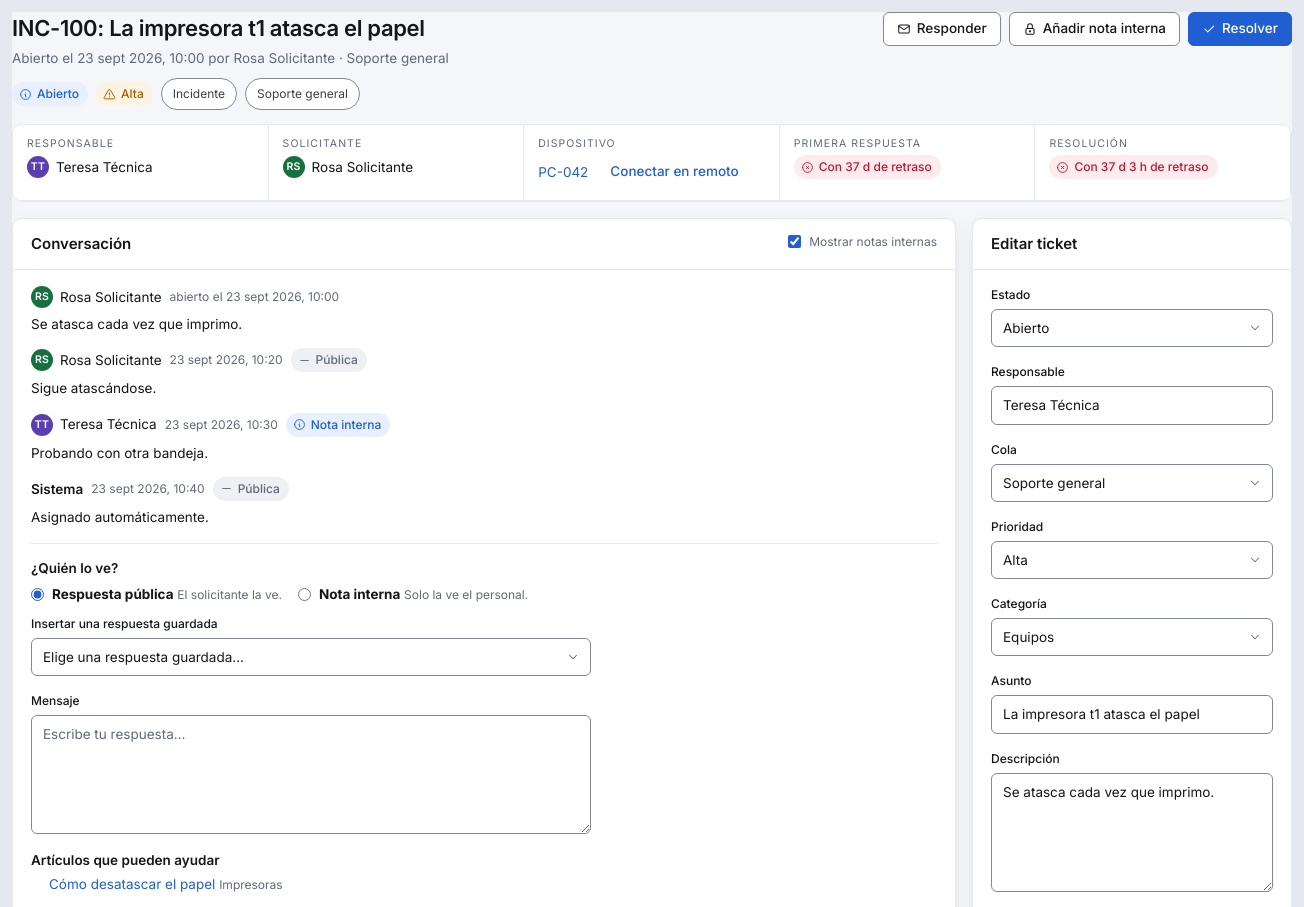
Test: a ticket's page in Spanish › fills the saved-reply box from the Spanish list
The image size is (1304, 907).
Select "Reiniciar primero" in the dropdown labelled "Insertar una respuesta guardada": (311, 657) [31,638,591,676]
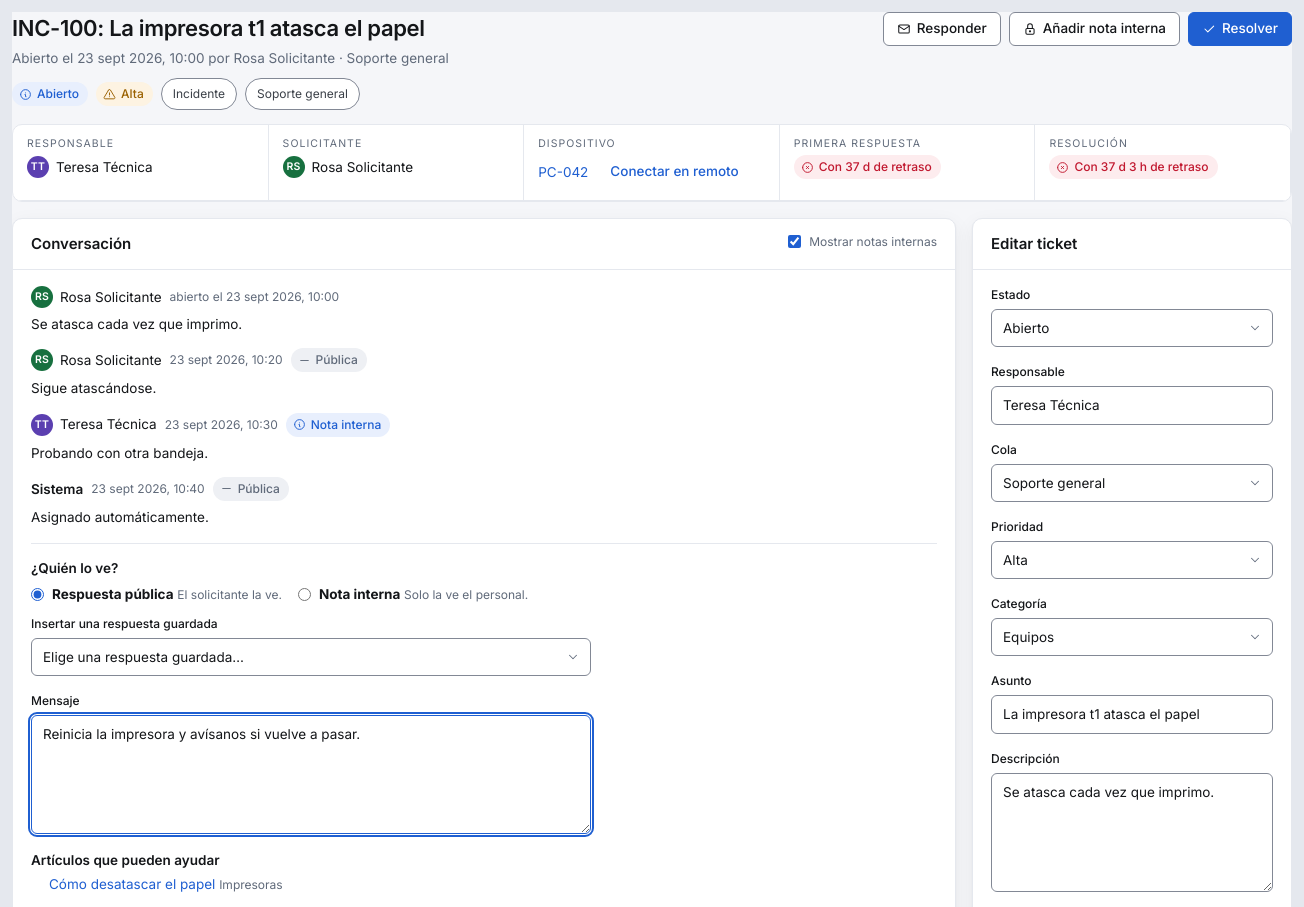
Expected: the text box with placeholder "Escribe tu respuesta…" holds "Reinicia la impresora y avísanos si vuelve a pasar.", [31,715,591,834]
